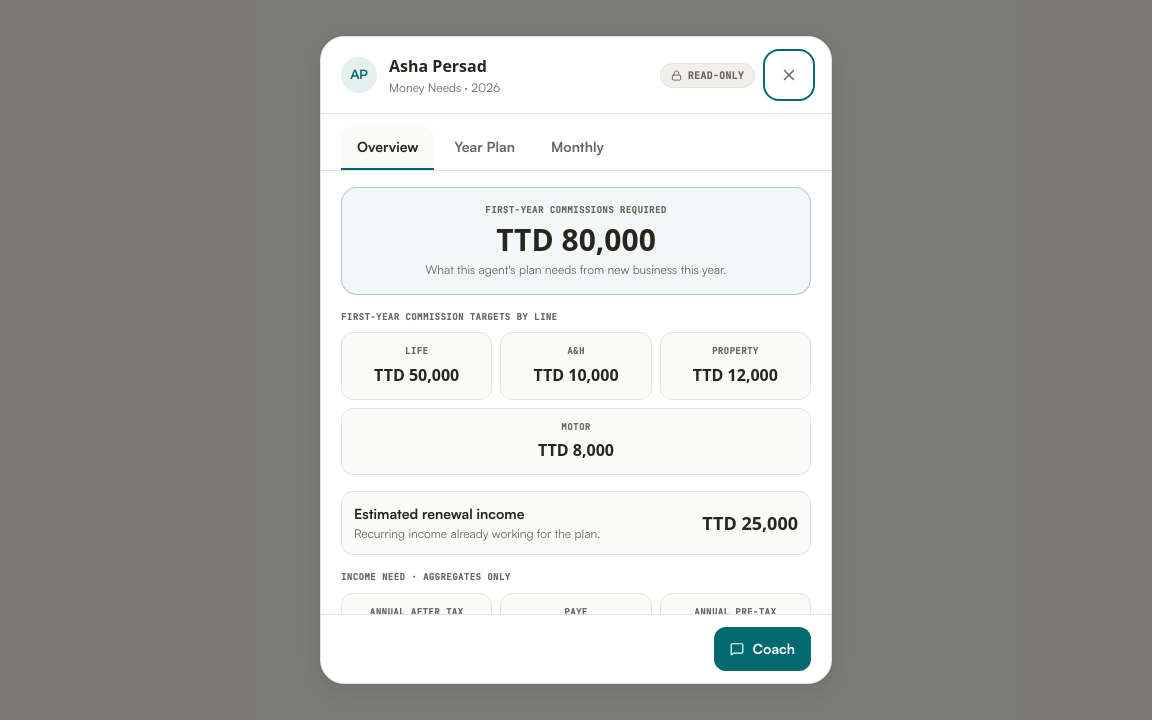
Test: AgentPlanDrawer — Year Plan tab › omits the over-committed check entirely when the worksheet is not shared (conditional, silent)
The image size is (1152, 720).
What coordinates should you click on to do the following:
click the tab with test id "tpd-tab-year"
I would click on:
 (485, 148)
Its box is top-left (438, 126), bottom-right (531, 170).
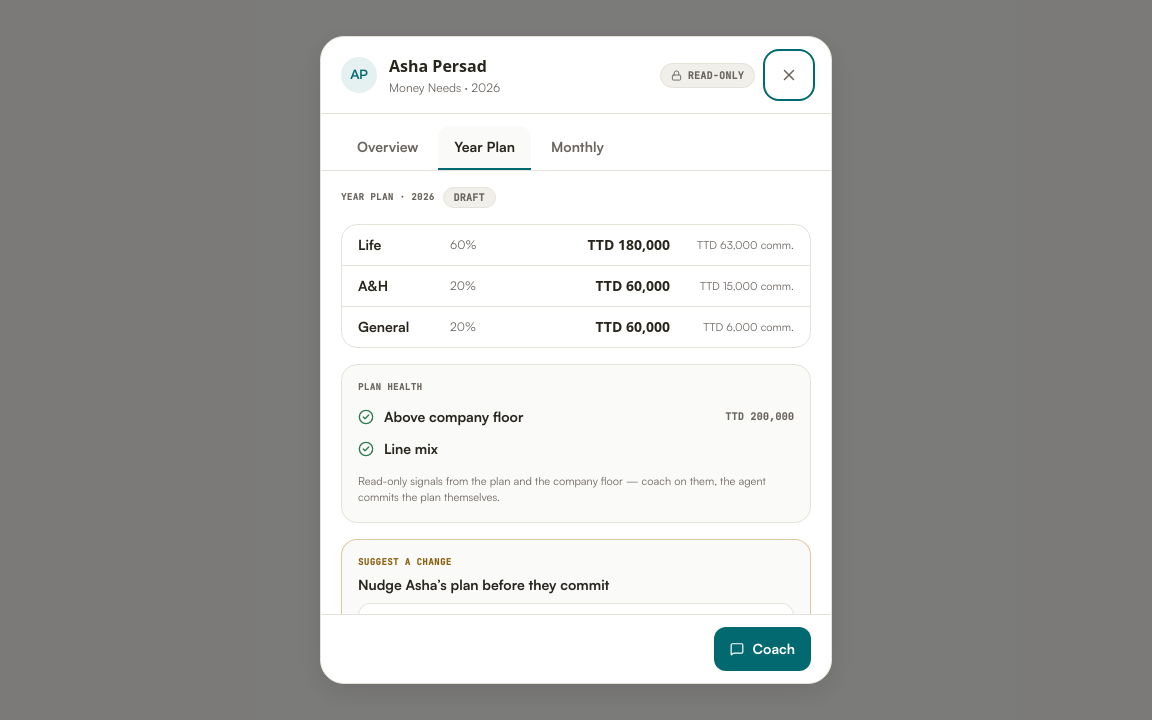
Now the element with test id "tpd-plan-health" is shown, box top-left (341, 364), bottom-right (811, 522)
